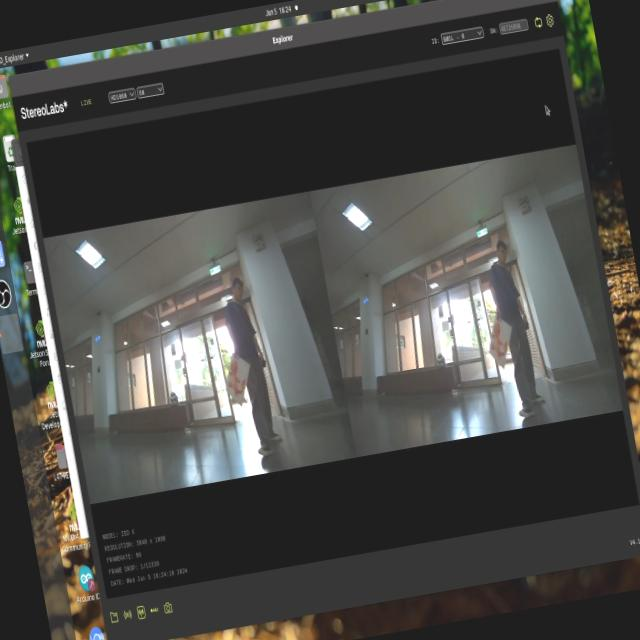red: (226, 351, 250, 401), (486, 319, 510, 364)
